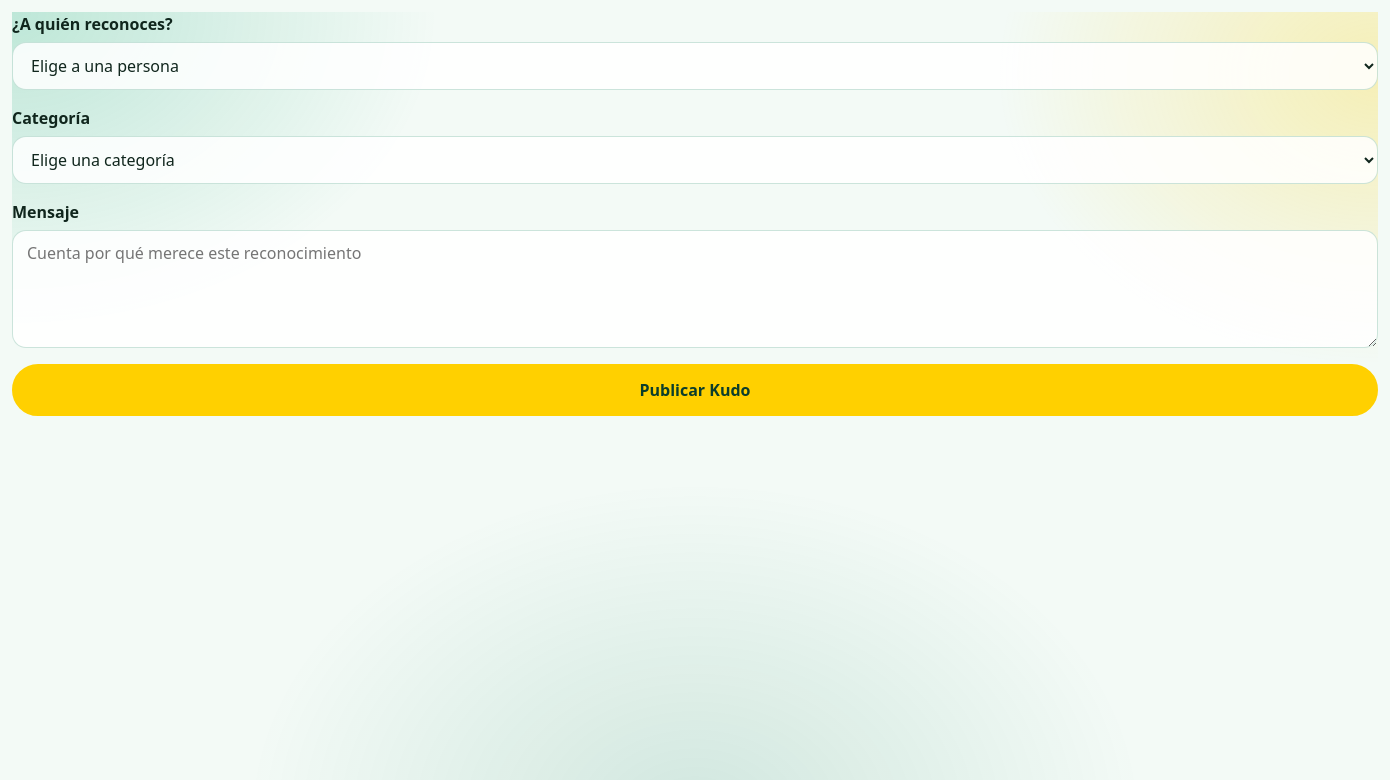
Test: FormularioDePublicacion › explica el rechazo CONTENIDO_VACIO de la API
Step 1. Select "Beto Estudiante" in the dropdown labelled "¿A quién reconoces?" → (695, 66), box [12,42,1378,90]
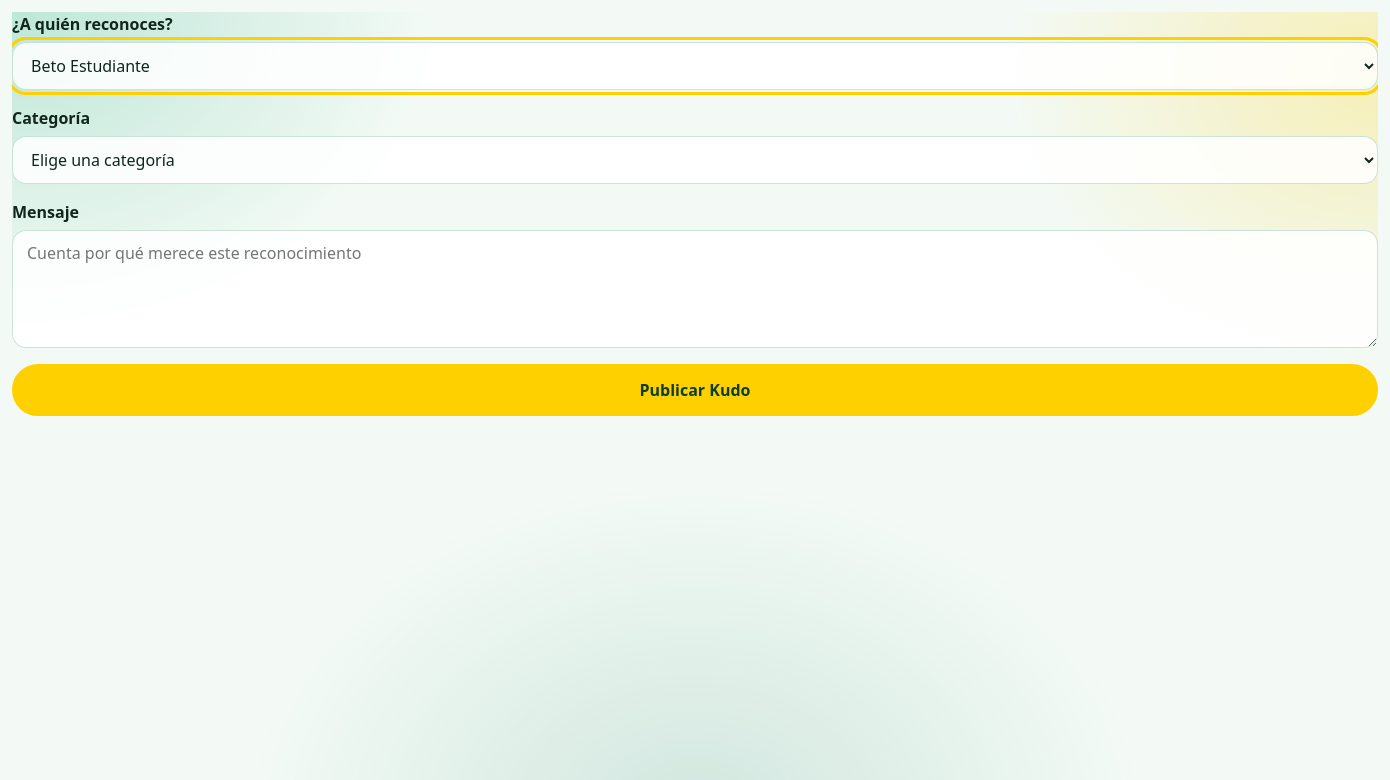
Step 2. Select "Innovación" in the dropdown labelled "Categoría" → (695, 160), box [12,136,1378,184]
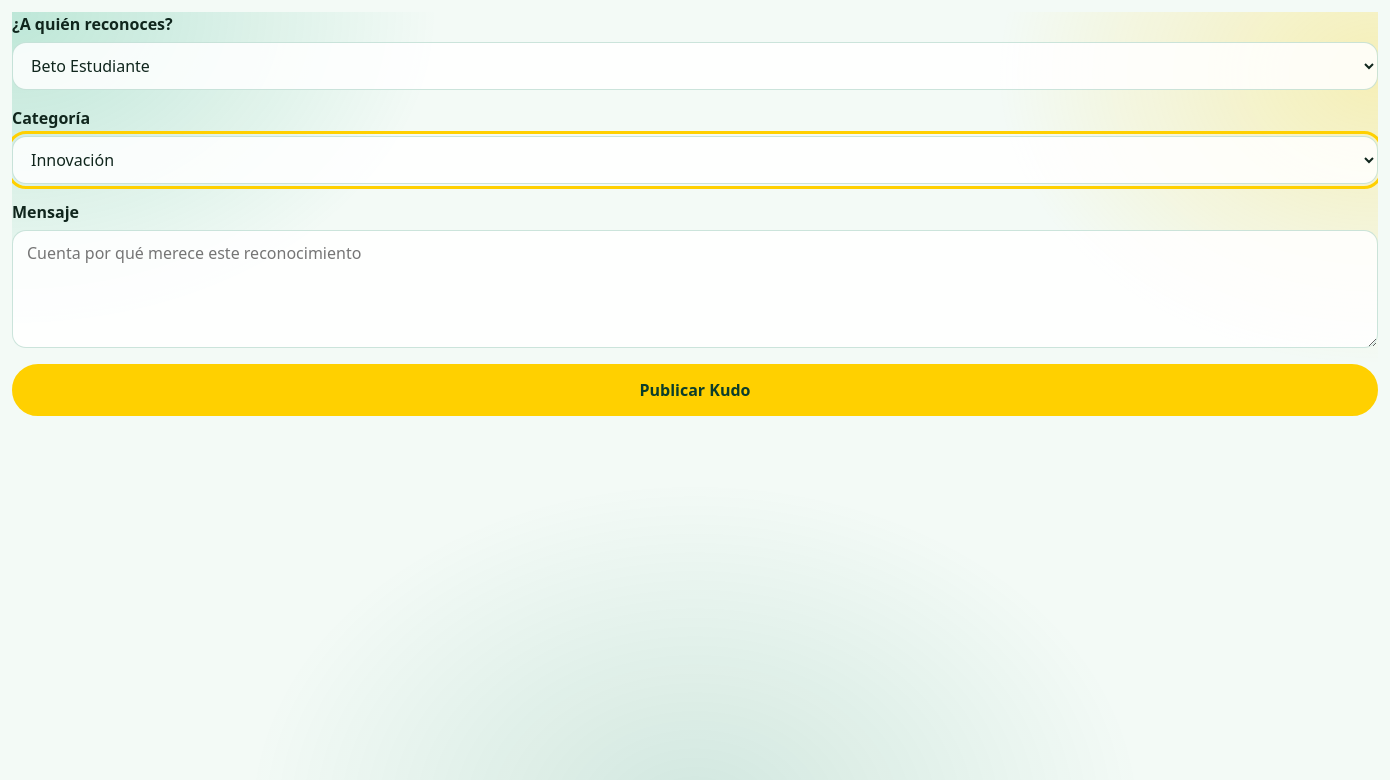
Step 3. Type "Gracias por todo" into the text box labelled "Mensaje" → (695, 289), box [12,230,1378,348]
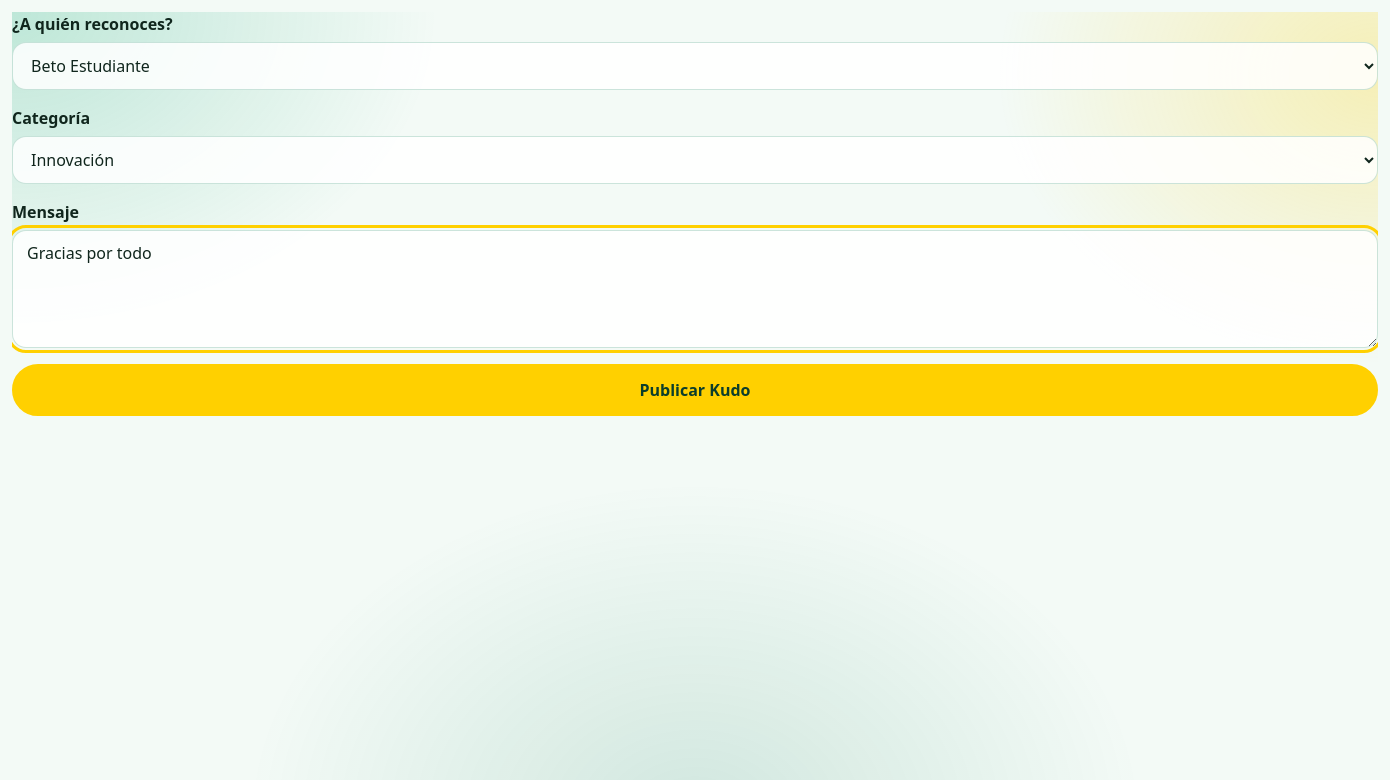
Step 4. Click the button "Publicar Kudo" → click(695, 390), box [12,364,1378,416]
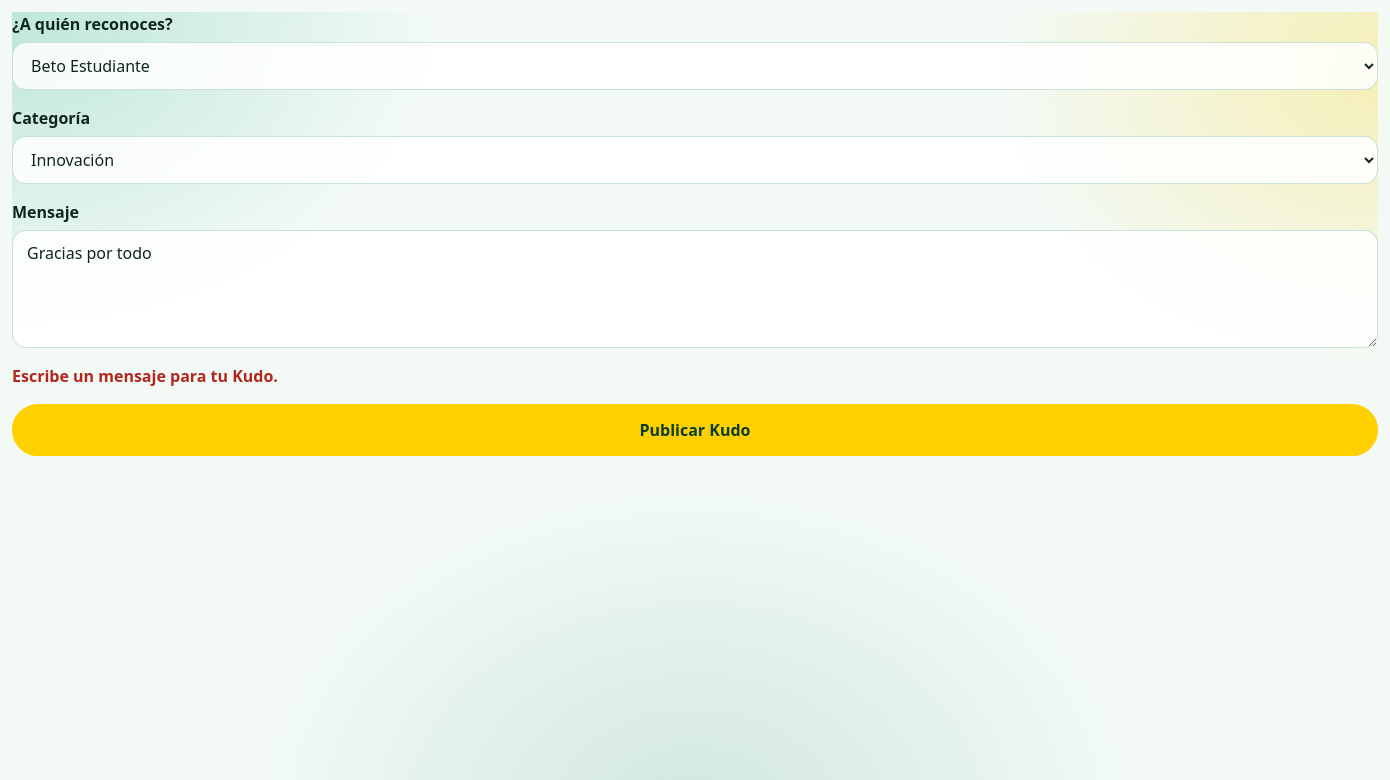
Expected: the message shows "Escribe un mensaje", [12,365,278,387]
